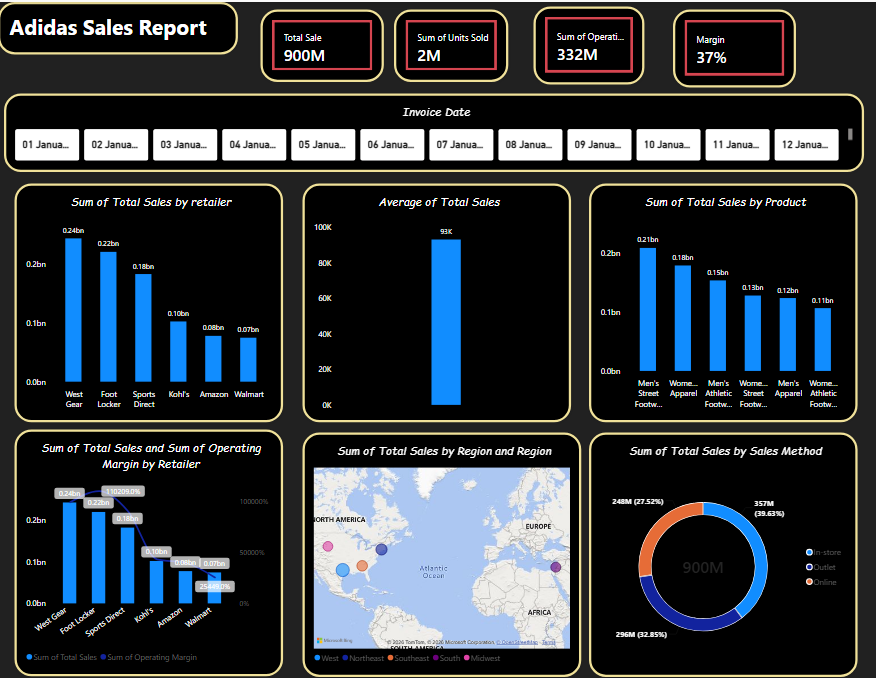

What the dashboard file says about the page in this screenshot:
{"tool":"powerbi","page":{"name":"main_dashbord","canvas":[1550,1200],"ordinal":1},"visuals":[{"type":"textbox","box":[10,0,280,280],"z":0},{"type":"textbox","box":[0,0,424.3,92.5],"z":1000},{"type":"advancedSlicerVisual","fields":{"Values":["Adidas US Sales Datasets.Invoice Date.Variation.Date Hierarchy.Month"]},"box":[10.1,162.9,1520.1,138.7],"z":2000},{"type":"clusteredColumnChart","title":"Sum of Total Sales by retailer","fields":{"Category":["Adidas Sales.Retailer"],"Y":["Sum(Adidas Sales.Total Sales)"]},"box":[30.2,319.7,474.5,422.3],"z":3000},{"type":"clusteredColumnChart","fields":{"Y":["Avg(Adidas US Sales Datasets.Total Sales)"]},"box":[536.9,319.7,474.5,422.3],"z":4000},{"type":"clusteredColumnChart","fields":{"Y":["Sum(Adidas US Sales Datasets.Total Sales)"],"Category":["Adidas US Sales Datasets.Product"]},"box":[1045.6,319.7,474.5,422.3],"z":5000},{"type":"lineStackedColumnComboChart","fields":{"Category":["Adidas US Sales Datasets.Retailer"],"Y":["Sum(Adidas US Sales Datasets.Total Sales)"],"Y2":["Sum(Adidas US Sales Datasets.Operating Margin)"]},"box":[30.2,756,474.5,436.3],"z":6000},{"type":"map","fields":{"Series":["Adidas Sales.Region"],"Category":["Adidas Sales.Region"],"Size":["Sum(Adidas Sales.Total Sales)"]},"box":[536.9,760.1,492.6,432.3],"z":7000},{"type":"donutChart","fields":{"Category":["Adidas Sales.Sales Method"],"Y":["Sum(Adidas Sales.Total Sales)"]},"box":[1045.6,760.1,474.5,432.3],"z":8000},{"type":"cardVisual","fields":{"Data":["Sum(Adidas Sales.Total Sales)"]},"box":[463.9,13.3,218,128],"z":9000},{"type":"cardVisual","fields":{"Data":["Sum(Adidas Sales.Units Sold)"]},"box":[699.9,13.3,202,128],"z":10000},{"type":"cardVisual","fields":{"Data":["Sum(Adidas Sales.Operating Profit)"]},"box":[946.4,8,196.2,137.9],"z":11000},{"type":"cardVisual","fields":{"Data":["Adidas Sales.Margin"]},"box":[1193,13.3,217.4,137.9],"z":12000}]}

Visuals, with their boxes in screenshot pixels (x1, y1, x2, y2), scaled from the page's 1550x1200 canvas onto the 876x678 screenshot:
textbox: box=[6, 0, 164, 158]
textbox: box=[0, 0, 240, 52]
advancedSlicerVisual - Adidas US Sales Datasets.Invoice Date.Variation.Date Hierarchy.Month: box=[6, 92, 865, 170]
"Sum of Total Sales by retailer" clusteredColumnChart: box=[17, 181, 285, 419]
clusteredColumnChart - Avg(Adidas US Sales Datasets.Total Sales): box=[303, 181, 572, 419]
clusteredColumnChart - Sum(Adidas US Sales Datasets.Total Sales) x Adidas US Sales Datasets.Product: box=[591, 181, 859, 419]
lineStackedColumnComboChart - Adidas US Sales Datasets.Retailer x Sum(Adidas US Sales Datasets.Total Sales): box=[17, 427, 285, 674]
map - Adidas Sales.Region x Adidas Sales.Region: box=[303, 429, 582, 674]
donutChart - Adidas Sales.Sales Method x Sum(Adidas Sales.Total Sales): box=[591, 429, 859, 674]
cardVisual - Sum(Adidas Sales.Total Sales): box=[262, 8, 385, 80]
cardVisual - Sum(Adidas Sales.Units Sold): box=[396, 8, 510, 80]
cardVisual - Sum(Adidas Sales.Operating Profit): box=[535, 5, 646, 82]
cardVisual - Adidas Sales.Margin: box=[674, 8, 797, 85]
